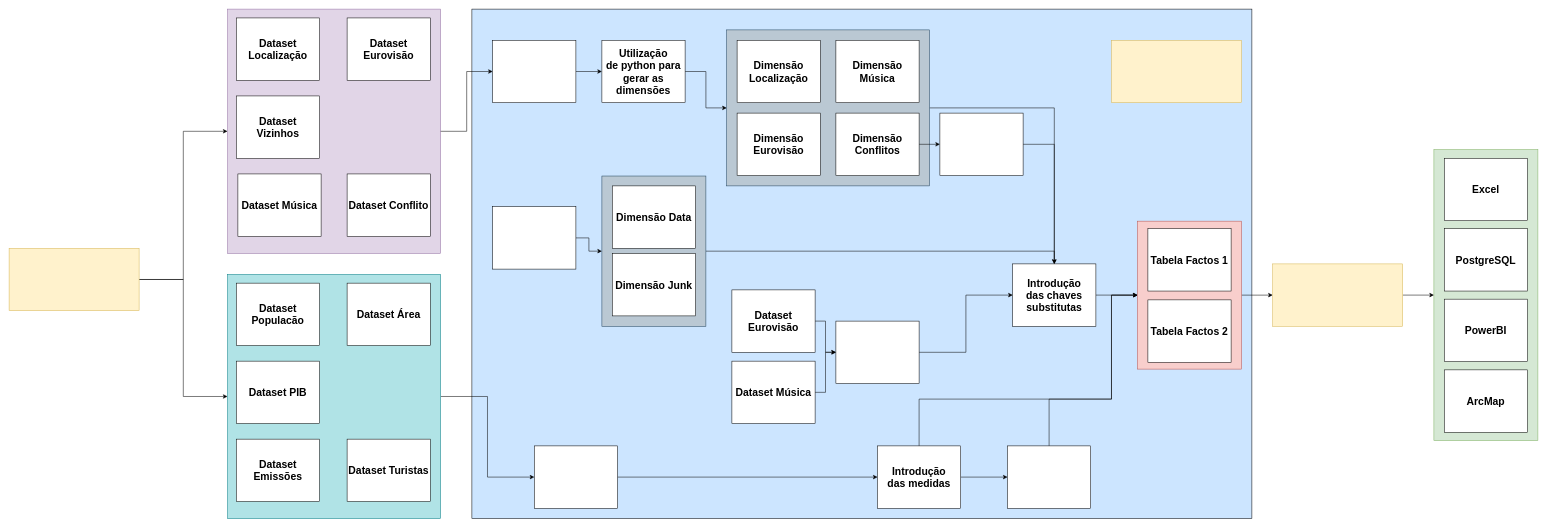
This 1547x528 diagram has some shape labels left out. Each missing label, with the box of its shape:
Carregamento: (1272, 263, 1403, 326)
Criação com recurso a python: (492, 206, 576, 269)
Criação das tabelas de factos: (835, 321, 919, 384)
Dimensão Conflitos Simplificado: (939, 113, 1023, 176)
Extração: (9, 248, 139, 311)
Pré-calculo de medidas agregadas: (1007, 445, 1091, 508)
Trabalho inicial análise estatística dados em Excel: (492, 40, 576, 103)
Transformação: (1111, 40, 1242, 103)
Utilização de python para manipulação dos dados: (534, 445, 618, 508)
